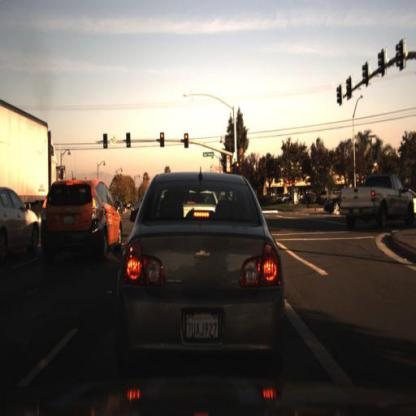car: (121, 174, 282, 372), (42, 177, 124, 265), (341, 176, 413, 232), (1, 185, 42, 264), (325, 188, 343, 217)
trafficLight-GreenLeft: (103, 130, 111, 151), (125, 131, 133, 152)
trafficLight-Red: (160, 130, 168, 149), (183, 133, 191, 152), (235, 161, 242, 179)
truck: (1, 90, 62, 226), (1, 97, 68, 219)
